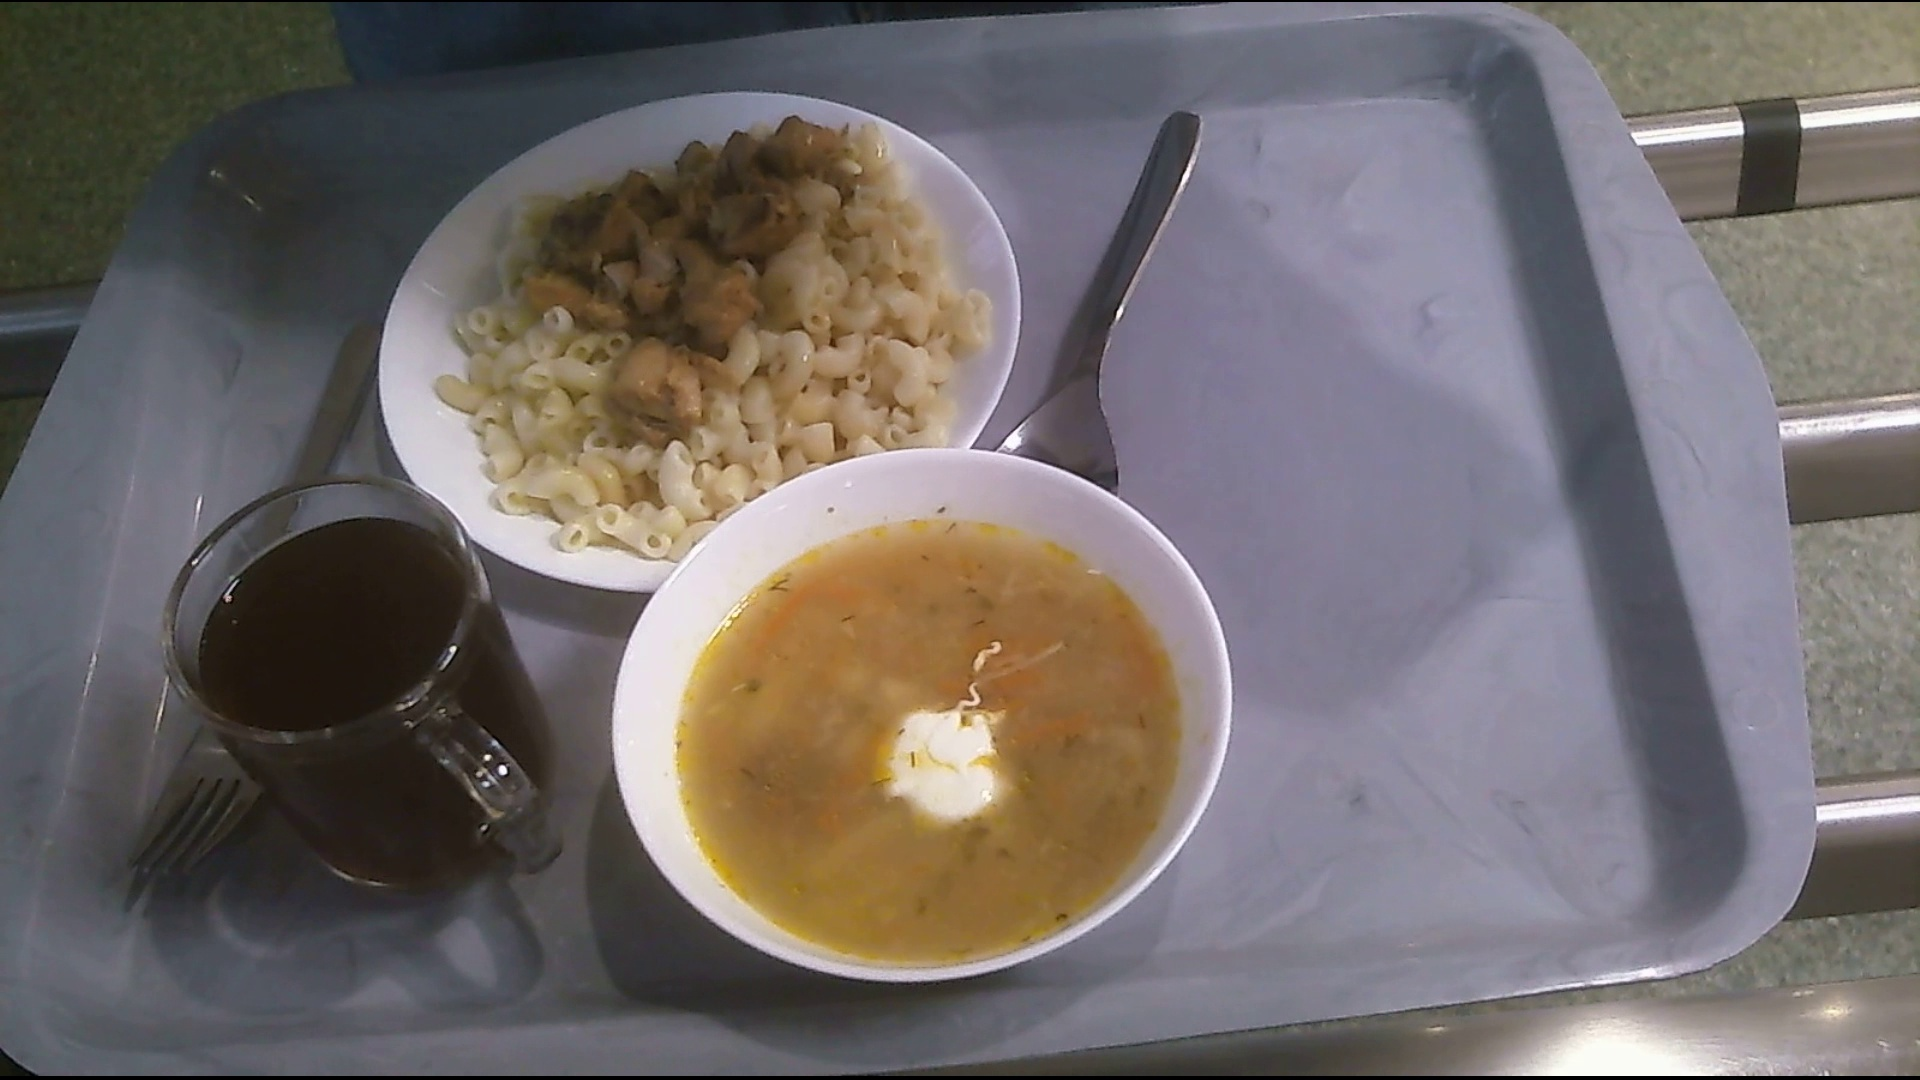bowl: (608, 450, 1230, 982)
cutlery: (133, 320, 400, 881), (1000, 102, 1217, 501)
drink: (171, 479, 564, 899)
plate: (378, 105, 1025, 593)
